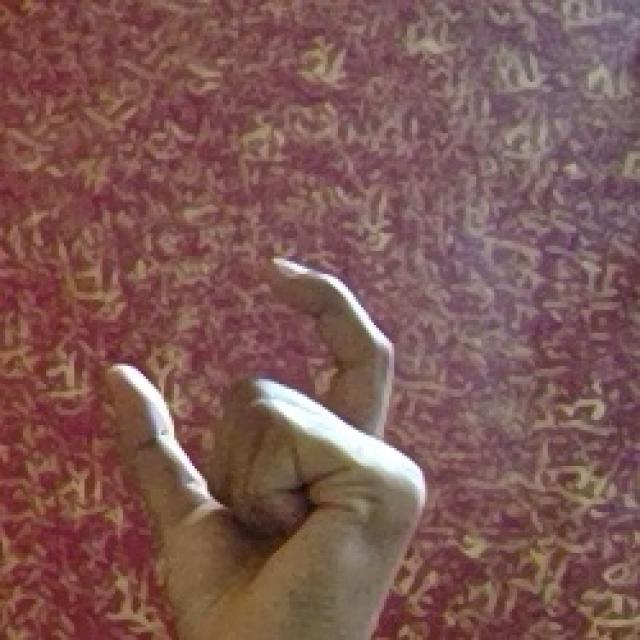Alphabet-U: (83, 218, 455, 640)
